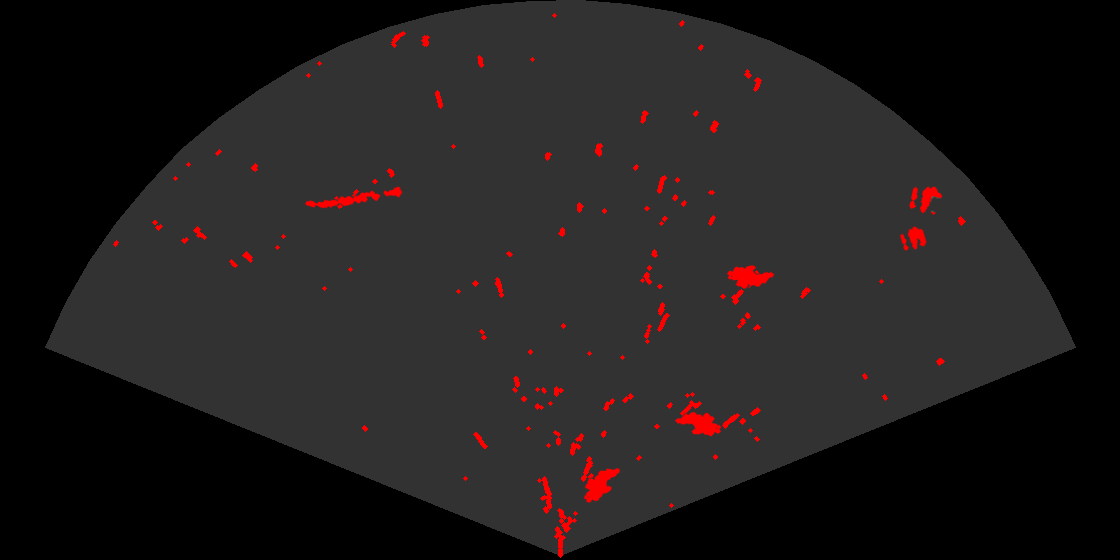AUV: (583, 467, 622, 504), (673, 411, 723, 438), (725, 264, 776, 290)
ball: (908, 185, 944, 217), (898, 225, 928, 252)
chain: (303, 185, 404, 210)
